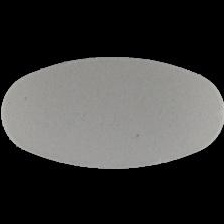68382-073: (0, 0, 224, 224)
